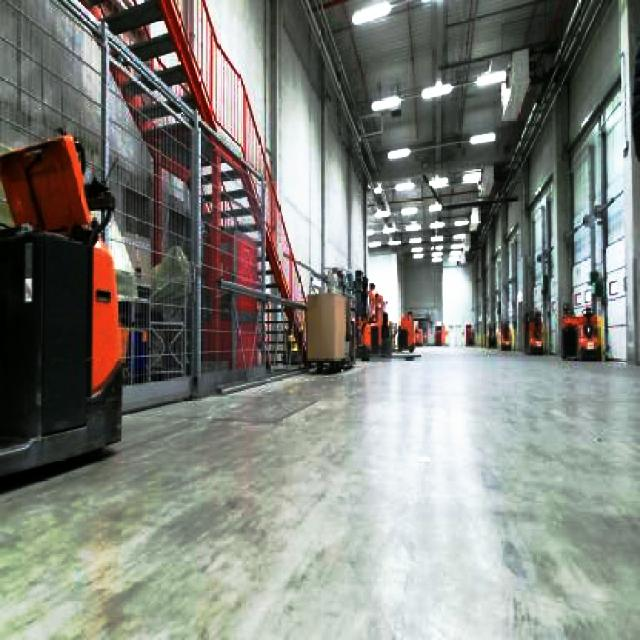ground: (0, 340, 638, 638)
pallet: (54, 0, 308, 377), (0, 129, 125, 494), (303, 291, 349, 372), (395, 311, 415, 352)
